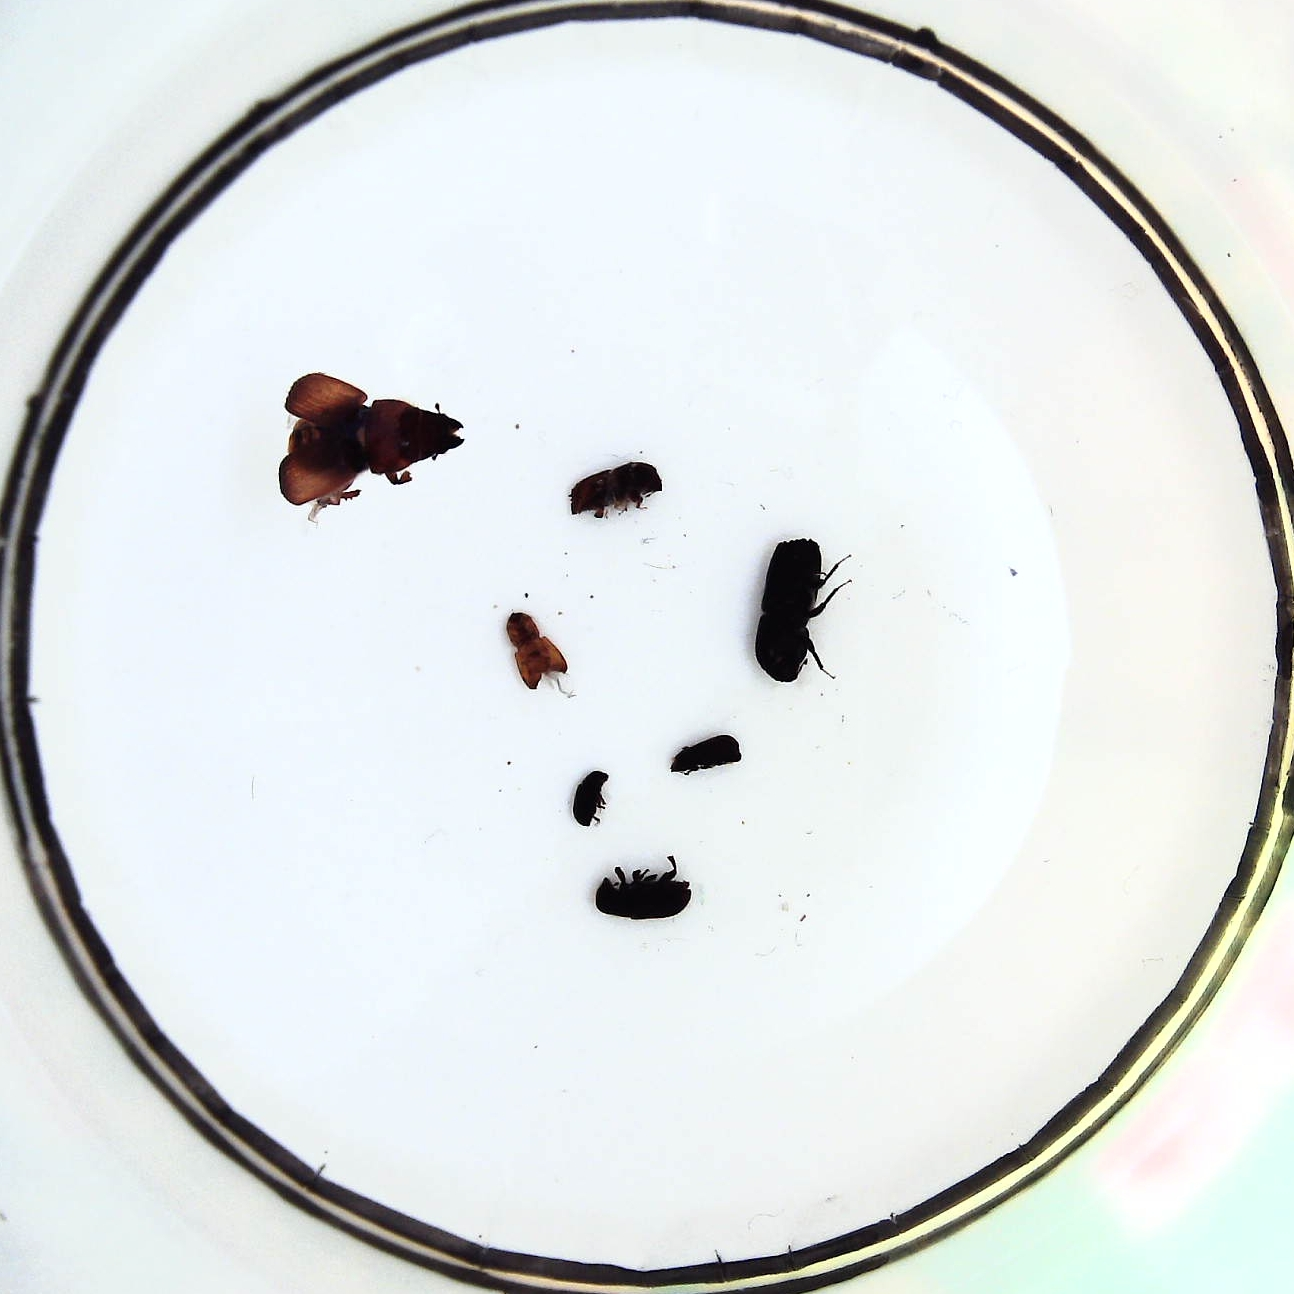Boerner: (757, 538, 829, 683)
Leconte: (281, 373, 470, 508)
Linnaeus: (566, 463, 664, 518)
acuminatus: (502, 608, 566, 690)
armandi: (594, 870, 694, 918)
coleoptera: (672, 735, 739, 773), (570, 770, 608, 824)
